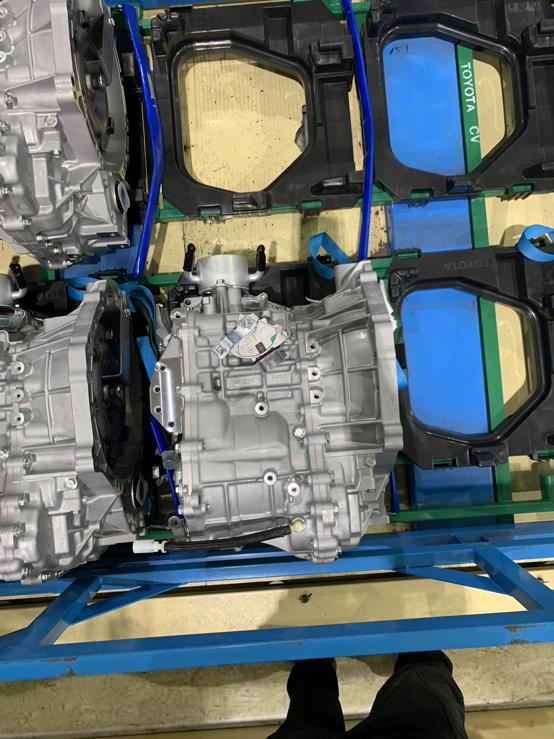gearbox_type1: (146, 254, 405, 565), (0, 279, 135, 566), (1, 0, 136, 253)
